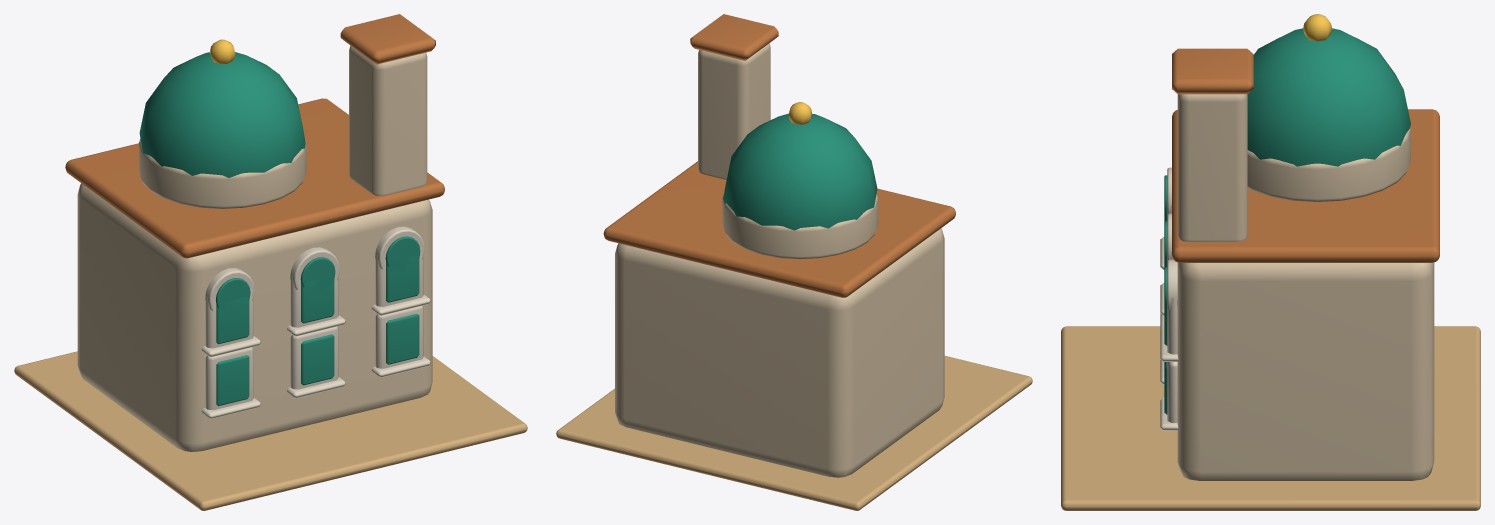
The picture shows the model from 3 angles, left to right: view 1: azimuth 30°, elevation 25°; view 2: azimuth 150°, elevation 25°; view 3: azimuth 270°, elevation 25°; orthographic projection. The views are drawn at different scales.
Visible parts, largest first — view 1: Cube; view 2: Cube; view 3: Cube.
Part boxes in pixels (x1=…): Cube: x1=14, y1=14, x2=527, y2=510; Cube: x1=556, y1=14, x2=1032, y2=510; Cube: x1=1061, y1=14, x2=1480, y2=510.
Size of the model in its own units: 0.72 by 0.775 by 0.72.
